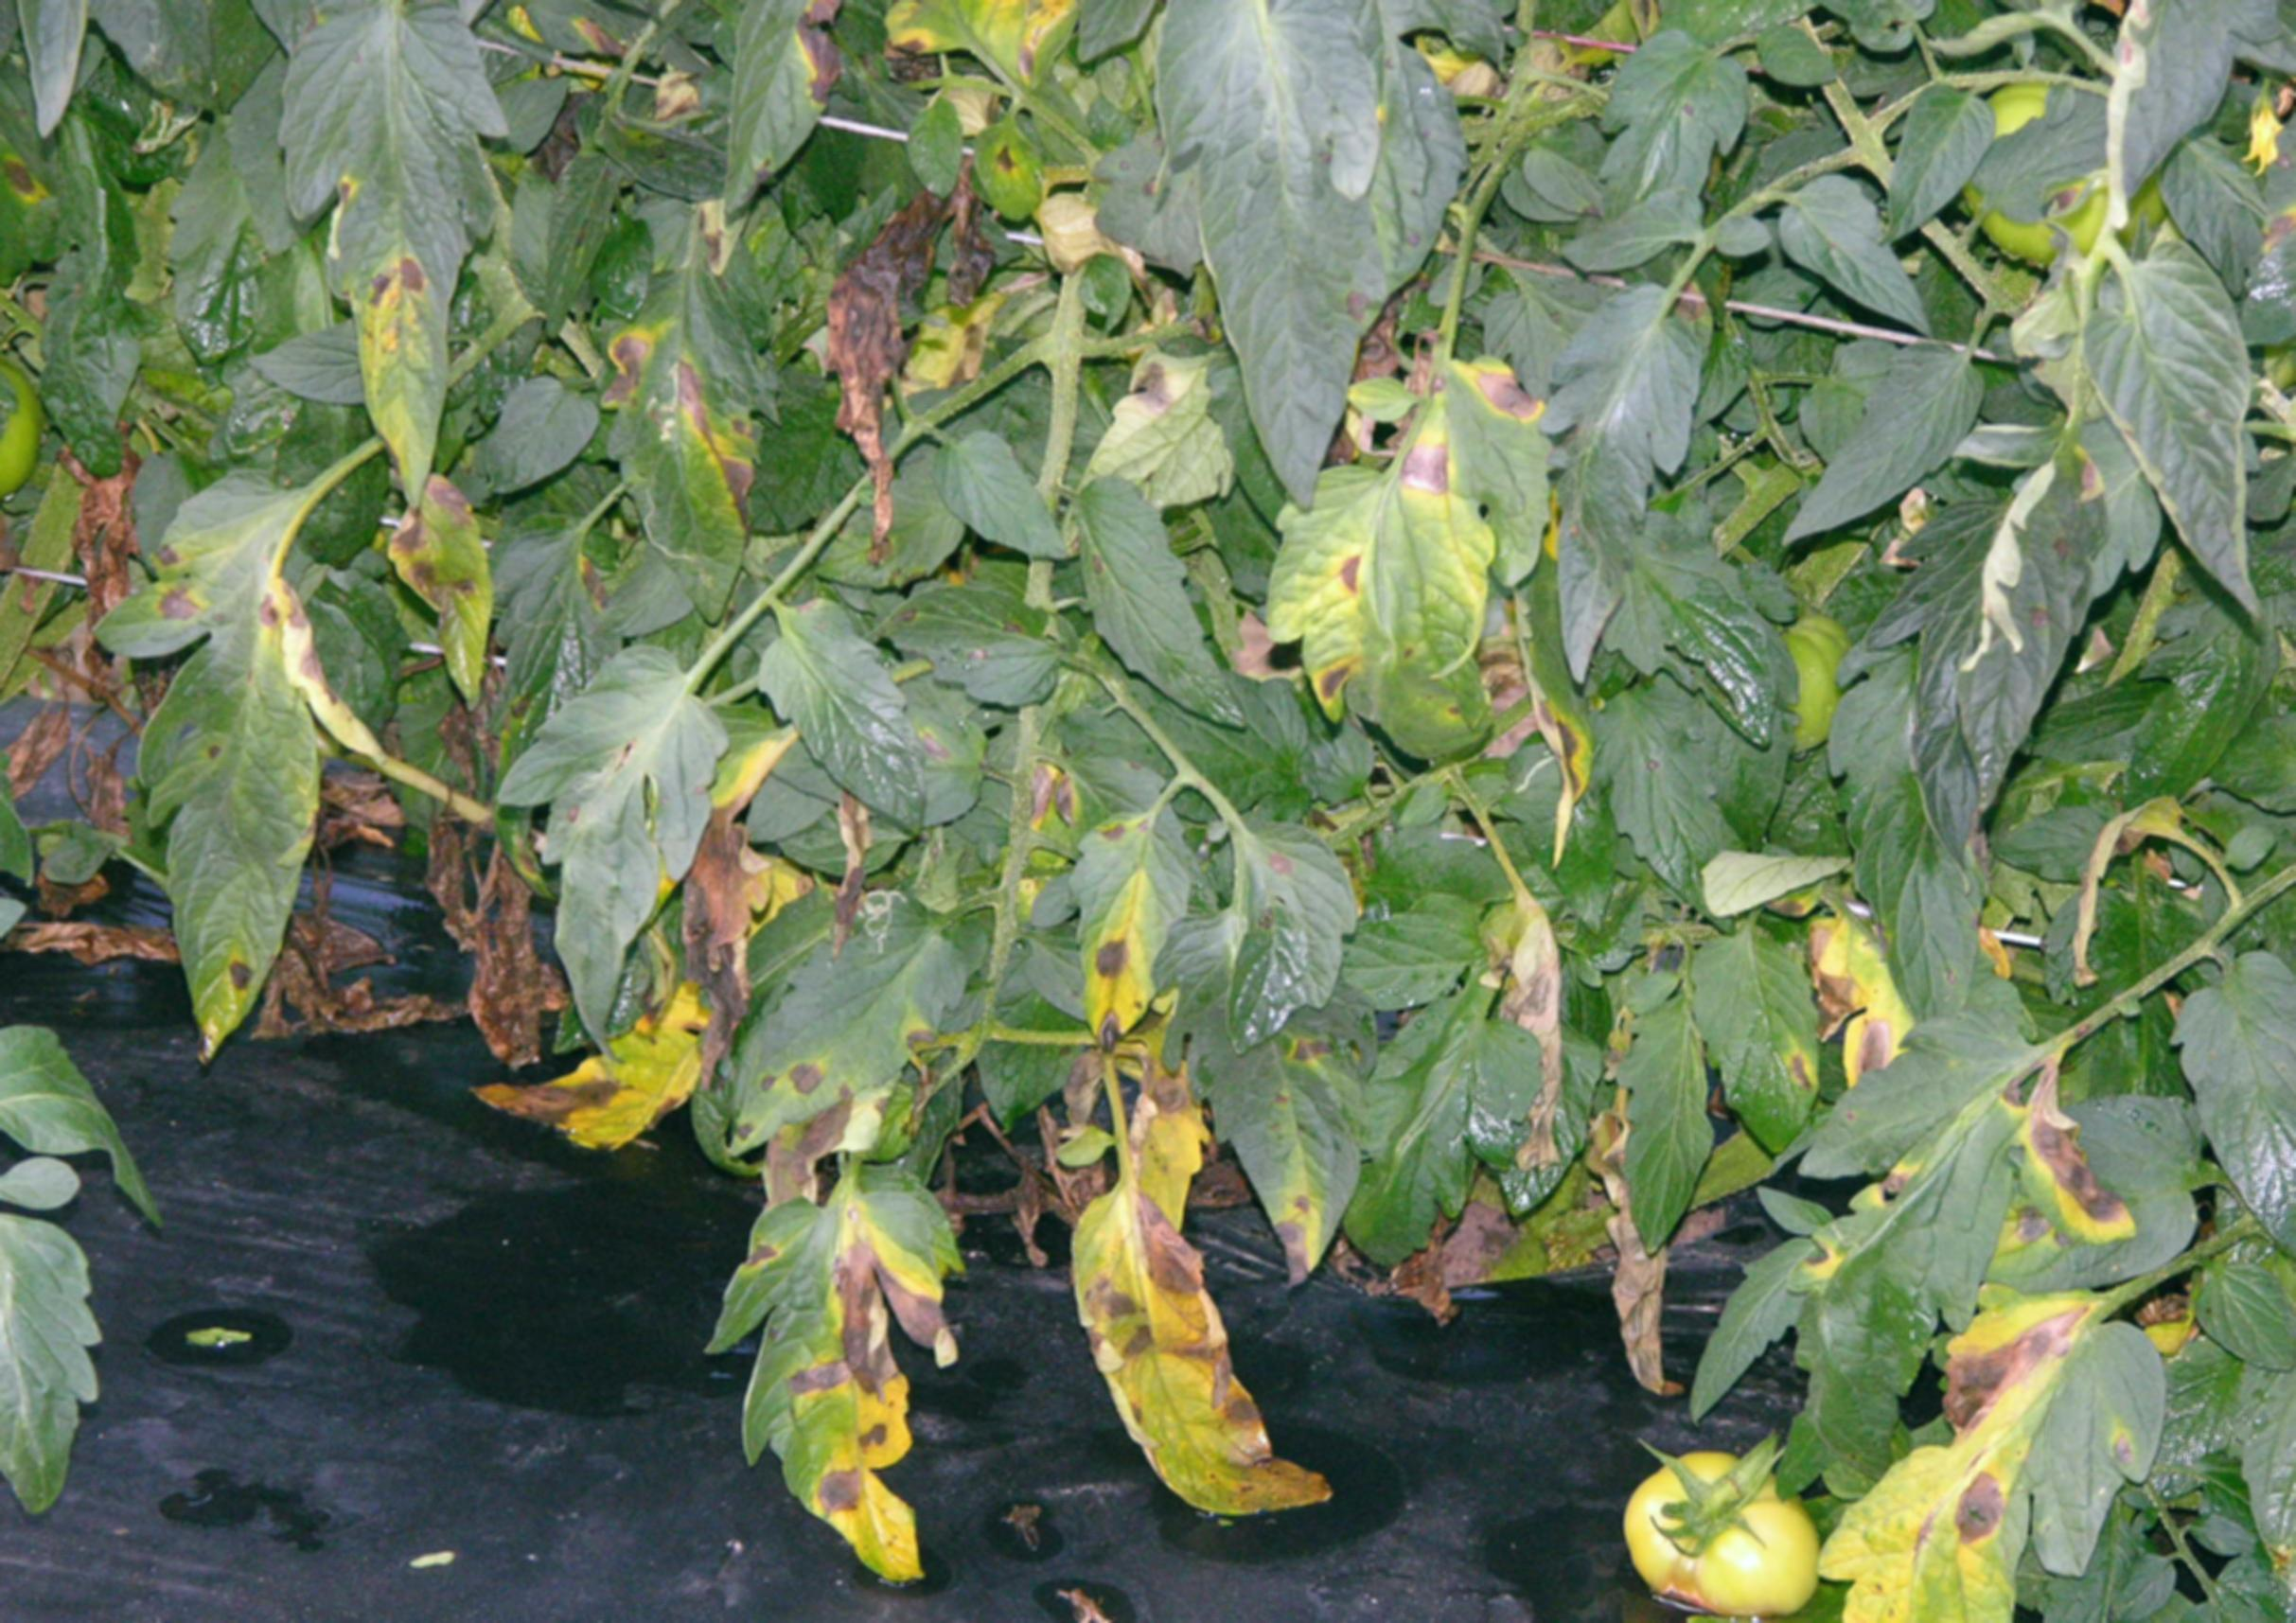Tomato Early blight leaf: (107, 420, 344, 1068), (1038, 1133, 1335, 1618), (267, 0, 545, 497), (1852, 1259, 2178, 1623), (740, 1170, 971, 1618), (613, 211, 792, 624), (1263, 480, 1511, 741), (1669, 917, 1843, 1198), (885, 0, 1108, 206), (1080, 780, 1198, 1052), (371, 471, 509, 687)
Tomato leaf: (2097, 242, 2257, 602), (1054, 481, 1251, 739), (1549, 292, 1669, 703), (754, 592, 938, 845), (0, 1186, 128, 1511), (2175, 956, 2296, 1266), (1787, 351, 1960, 541), (1769, 190, 1950, 346)
